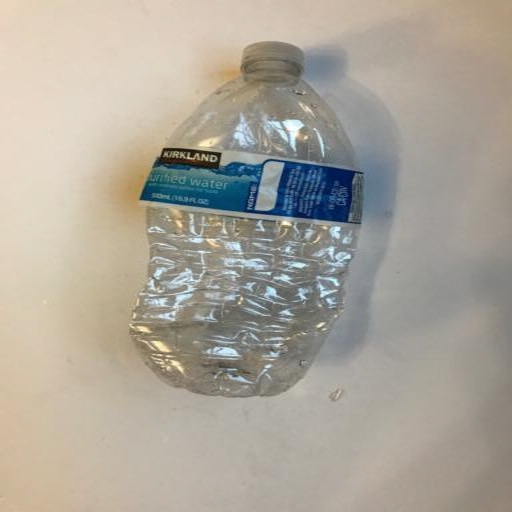Plastic_0: (132, 41, 365, 397)
